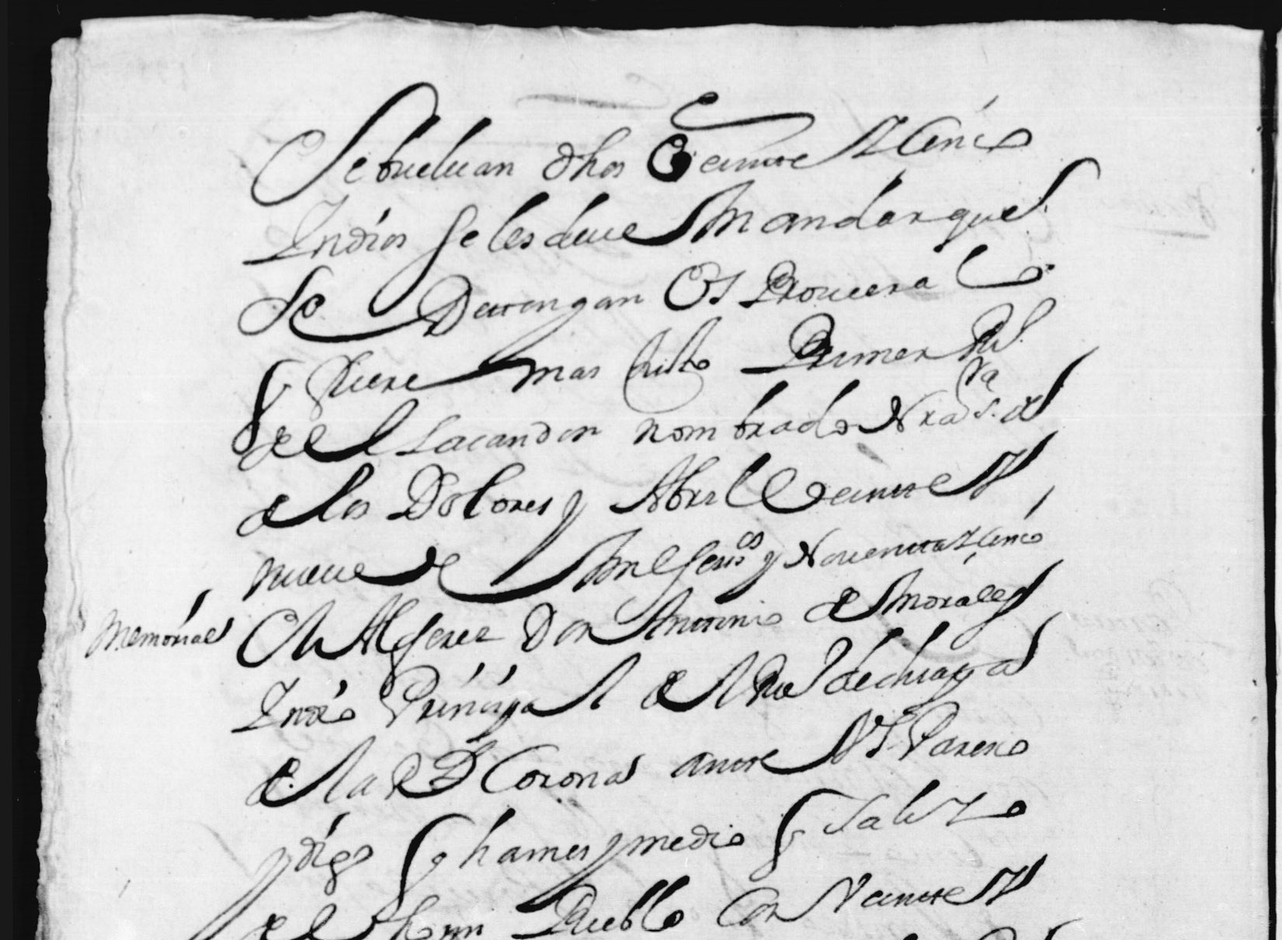lacandon: (395, 415, 602, 456)
